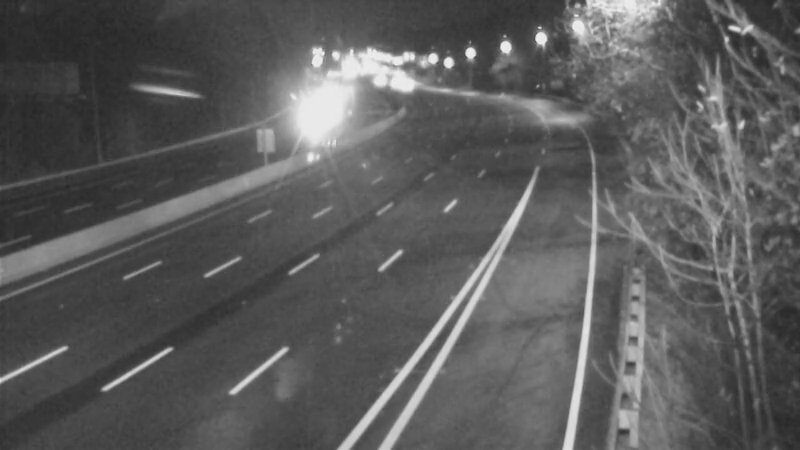vehicle: (353, 56, 403, 106), (379, 62, 429, 112), (288, 95, 338, 145)
